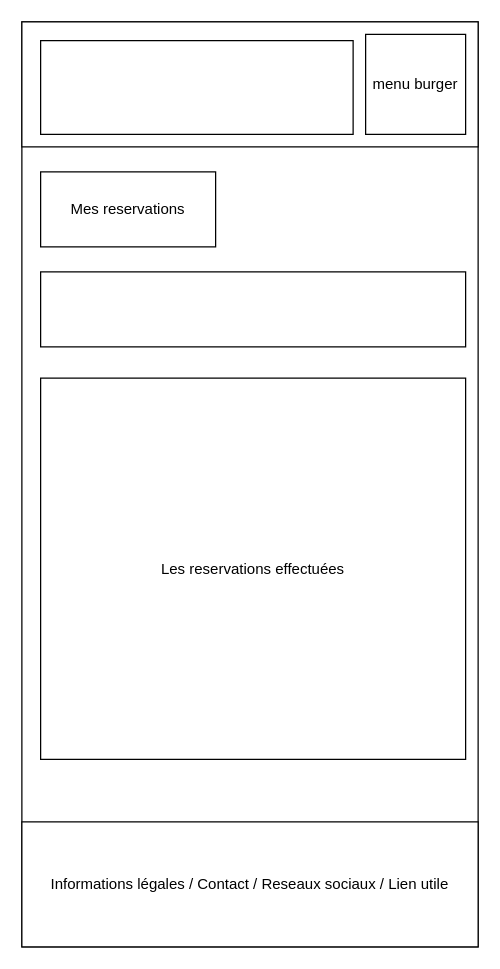
This 500x969 diagram has some shape labels left out. Here are the shapes that lost their labels. From the top down, the centre of each, then its label:
At point (196, 86): "LOGO".
At point (252, 309): "Réference / Date / Nombres de personnes / Prix total".
